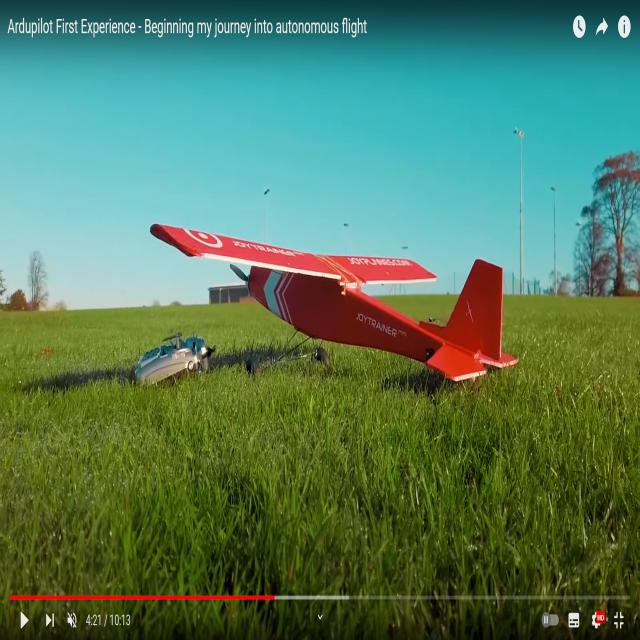iha: (141, 216, 506, 386)
